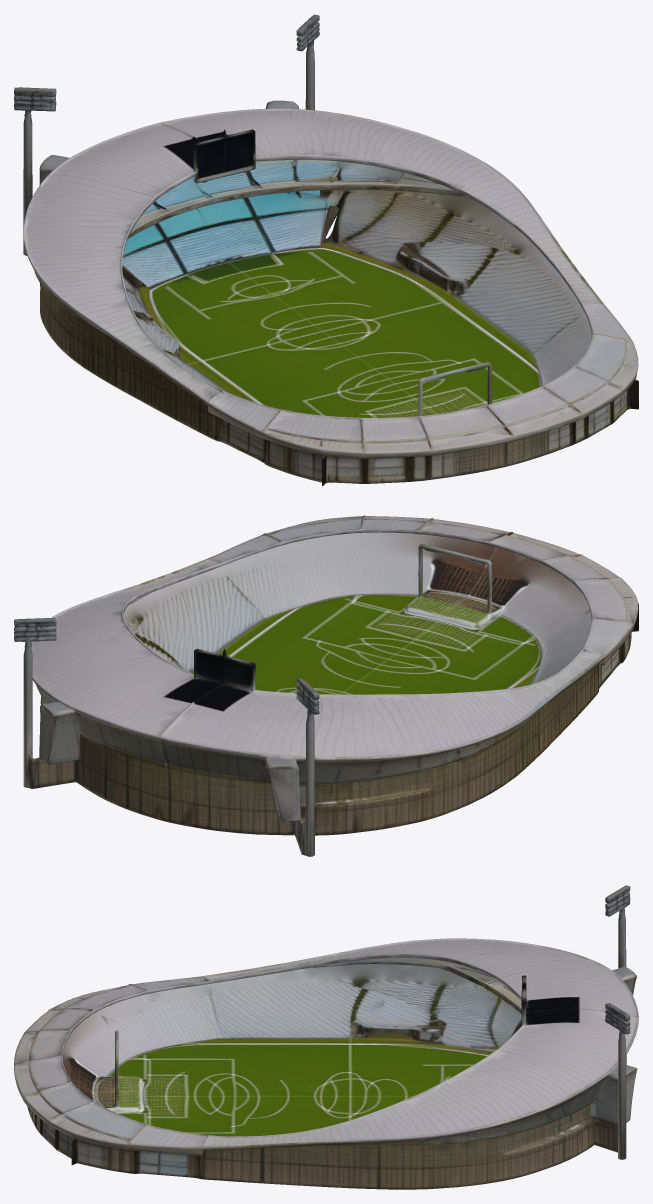
File: soccer_stadium_environment_model_fbx.fbx
3 views of the same model, one above another, from view 1: azimuth 30°, elevation 25°; view 2: azimuth 150°, elevation 25°; view 3: azimuth 270°, elevation 25° (orthographic). The views are drawn at different scales.
Parts seen in each view (by area): view 1: mesh_1c2d; view 2: mesh_1c2d; view 3: mesh_1c2d.
Part boxes in pixels (x1,y1,x2,y2): mesh_1c2d: (14,14,638,486); mesh_1c2d: (14,515,638,856); mesh_1c2d: (14,885,638,1189).
Bounding box in the file's own units: 3.44 × 1.2 × 4.62.
1 material, 1 textured.
